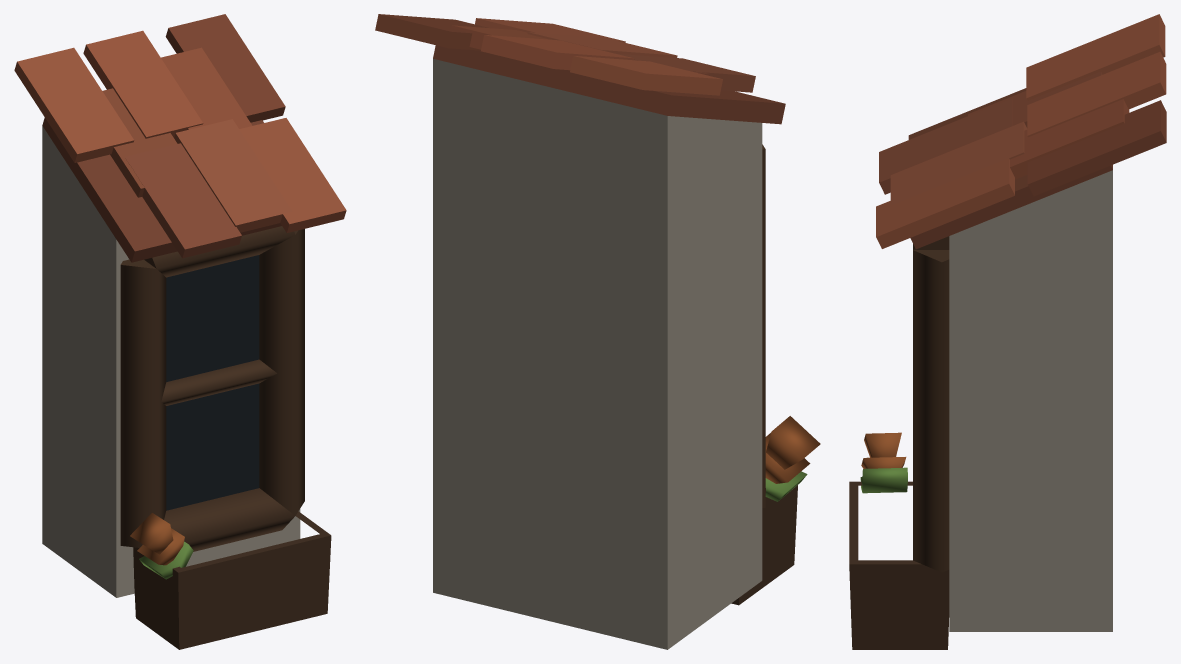
Rendered from oriel_02.glb.
The picture shows the model from 3 angles, left to right: view 1: azimuth 30°, elevation 25°; view 2: azimuth 150°, elevation 25°; view 3: azimuth 270°, elevation 25°; orthographic projection. The views are drawn at different scales.
Parts seen in each view (by area): view 1: window_oriel_02; view 2: window_oriel_02; view 3: window_oriel_02.
Part boxes in pixels (box(x1,y1,x2,y2)): window_oriel_02: box(14, 14, 346, 649); window_oriel_02: box(375, 14, 820, 649); window_oriel_02: box(849, 14, 1166, 649).
Bounding box in the file's own units: 0.7488 × 1.65 × 0.8722.
